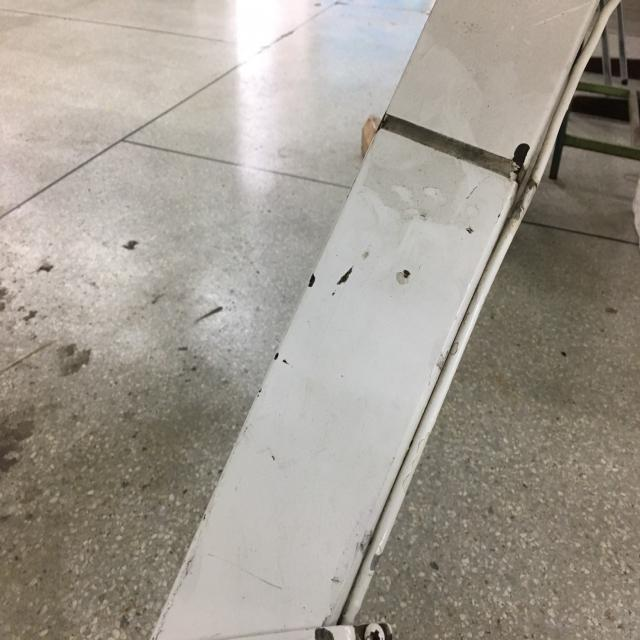Rupture: (258, 224, 445, 399)
